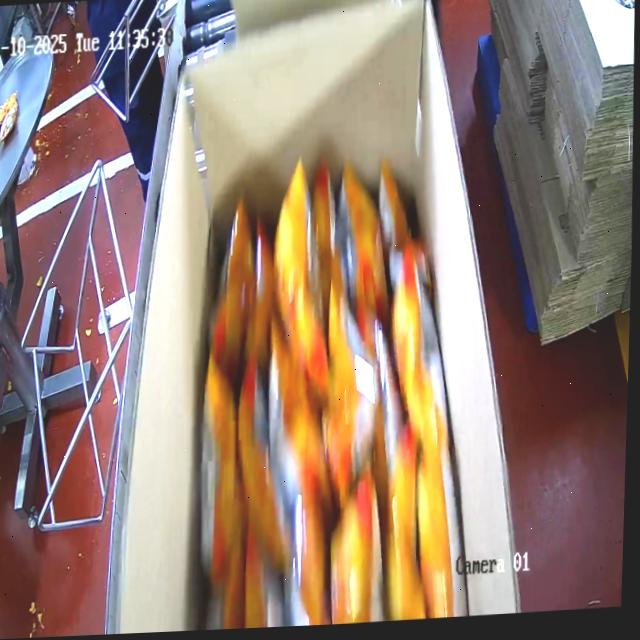FRENCH_CHEESE: (177, 160, 481, 631)
